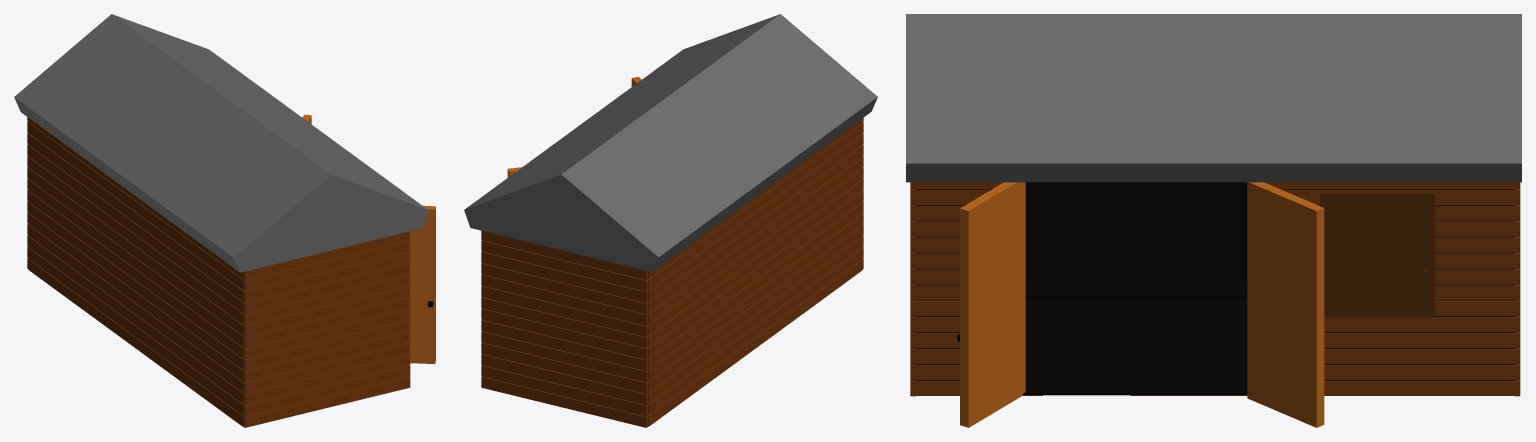
The model's file is GranjaExterior3.fbx.
The picture shows the model from 3 angles, left to right: view 1: azimuth 30°, elevation 25°; view 2: azimuth 150°, elevation 25°; view 3: azimuth 270°, elevation 25°; orthographic projection. The views are drawn at different scales.
Parts seen in each view (by area): view 1: Cylinder, Cube.005, Cube.007, Cube.017; view 2: Cylinder, Cube.005, Cube.008; view 3: Cylinder, Cube, Cube.006, Cube.018, Cube.017, Cube.019, Cube.008, Cube.007.
Part boxes in pixels (bbox=[...]): Cylinder: bbox=[14, 14, 428, 272]; Cube.005: bbox=[28, 118, 243, 426]; Cube.007: bbox=[243, 231, 410, 427]; Cube.017: bbox=[410, 205, 435, 363]; Cylinder: bbox=[464, 14, 877, 272]; Cube.005: bbox=[648, 118, 862, 426]; Cube.008: bbox=[481, 230, 648, 427]; Cylinder: bbox=[906, 14, 1521, 182]; Cube: bbox=[914, 182, 1514, 395]; Cube.006: bbox=[914, 182, 1514, 395]; Cube.018: bbox=[1247, 182, 1324, 427]; Cube.017: bbox=[960, 182, 1025, 427]; Cube.019: bbox=[1319, 192, 1434, 317]; Cube.008: bbox=[1514, 182, 1520, 396]; Cube.007: bbox=[910, 182, 916, 396].
Bounding box in the file's own units: 274 × 273 × 465.
